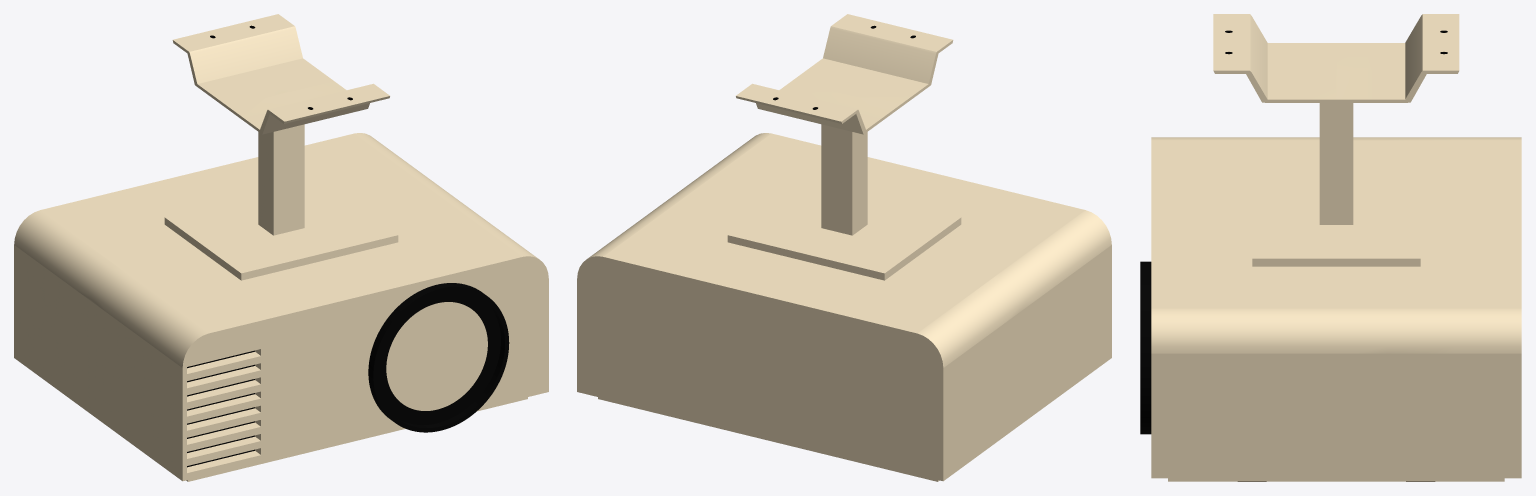
File: projector.fbx
3 views of the same model, side by side, from view 1: azimuth 30°, elevation 25°; view 2: azimuth 150°, elevation 25°; view 3: azimuth 270°, elevation 25° (orthographic). The views are drawn at different scales.
Visible parts, largest first — view 1: Cube.059; view 2: Cube.059; view 3: Cube.059.
Boxes of the visible parts, x1,y1,x2,y2 form: Cube.059: (14, 14, 548, 481); Cube.059: (577, 14, 1111, 481); Cube.059: (1140, 14, 1521, 481).
Size of the model in its own units: 251 by 212 by 206.
